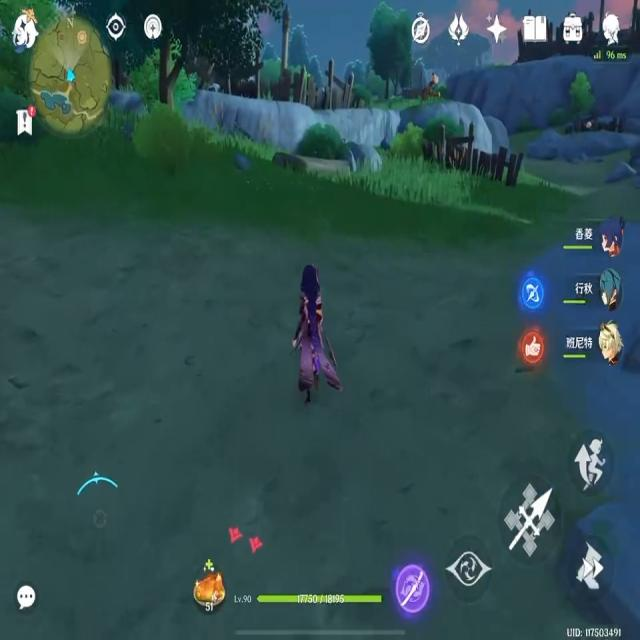genshin-hilichurls: (426, 67, 442, 101)
